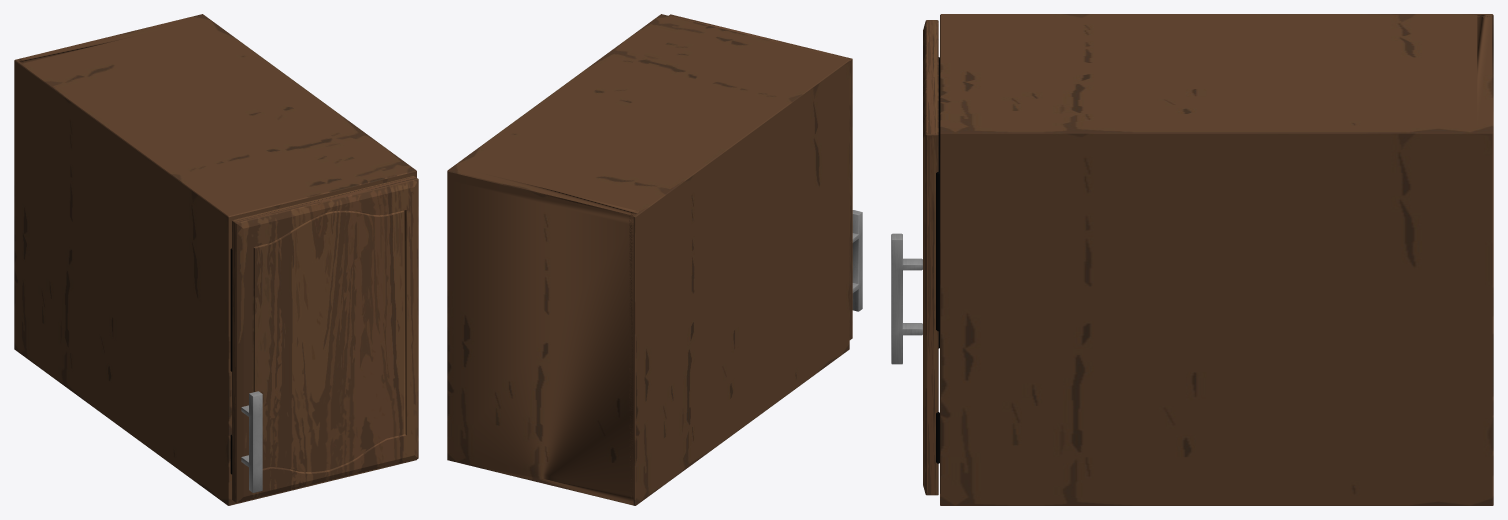
The model's file is top - cabinet - large - single.fbx.
3 views of the same model, side by side, from view 1: azimuth 30°, elevation 25°; view 2: azimuth 150°, elevation 25°; view 3: azimuth 270°, elevation 25° (orthographic). The views are drawn at different scales.
Visible parts, largest first — view 1: Top - Cab - small - back - single, cab - door right.003; view 2: Top - Cab - small - back - single, cab - door right.003; view 3: Top - Cab - small - back - single, cab - door right.003.
Part boxes in pixels (bbox=[...]): Top - Cab - small - back - single: bbox=[14, 14, 417, 505]; cab - door right.003: bbox=[232, 176, 418, 502]; Top - Cab - small - back - single: bbox=[447, 14, 849, 505]; cab - door right.003: bbox=[669, 14, 862, 339]; Top - Cab - small - back - single: bbox=[936, 14, 1493, 505]; cab - door right.003: bbox=[891, 20, 938, 495].
Bounding box in the file's own units: 5280 × 11296 × 7730.
